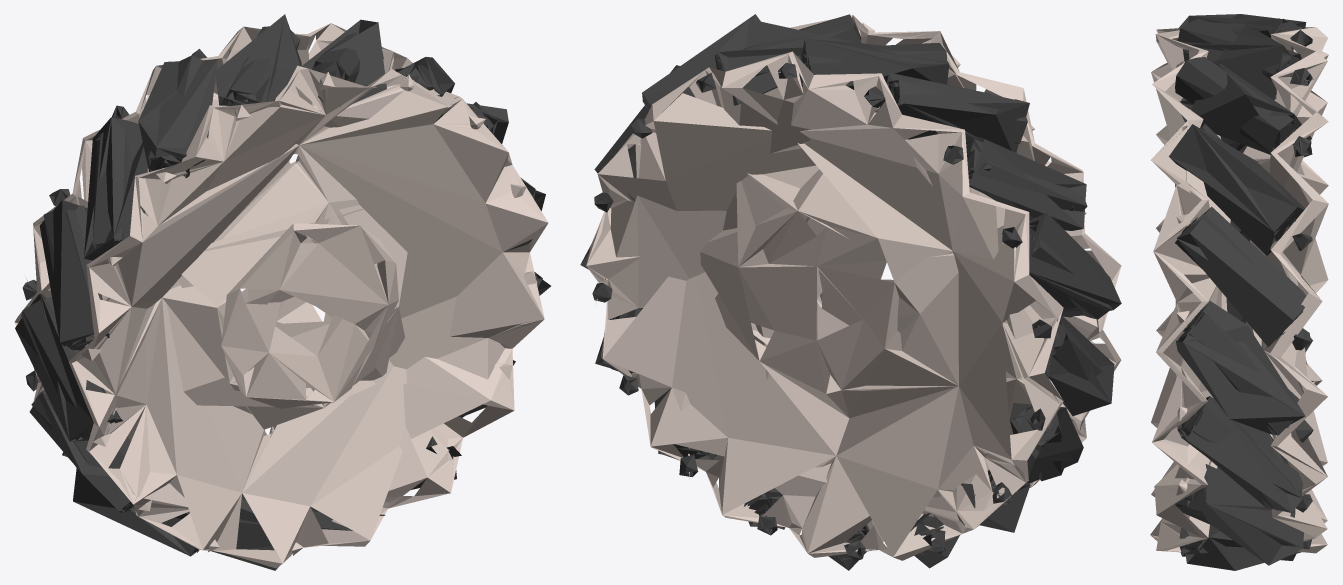
Rendered from wheel_left10.dae.
The picture shows the model from 3 angles, left to right: view 1: azimuth 30°, elevation 25°; view 2: azimuth 150°, elevation 25°; view 3: azimuth 270°, elevation 25°; orthographic projection.
Visible parts, largest first — view 1: wheel_lf; view 2: wheel_lf; view 3: wheel_lf.
Boxes of the visible parts, x1,y1,x2,y2 form: wheel_lf: (14,14,550,570); wheel_lf: (580,14,1121,570); wheel_lf: (1150,14,1328,570).
Size of the model in its own units: 0.1528 by 0.0485 by 0.1536.
